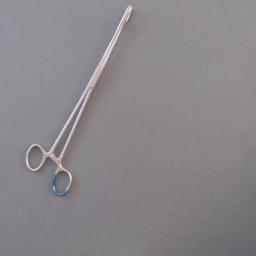Sponge Forceps: (21, 2, 137, 200)
